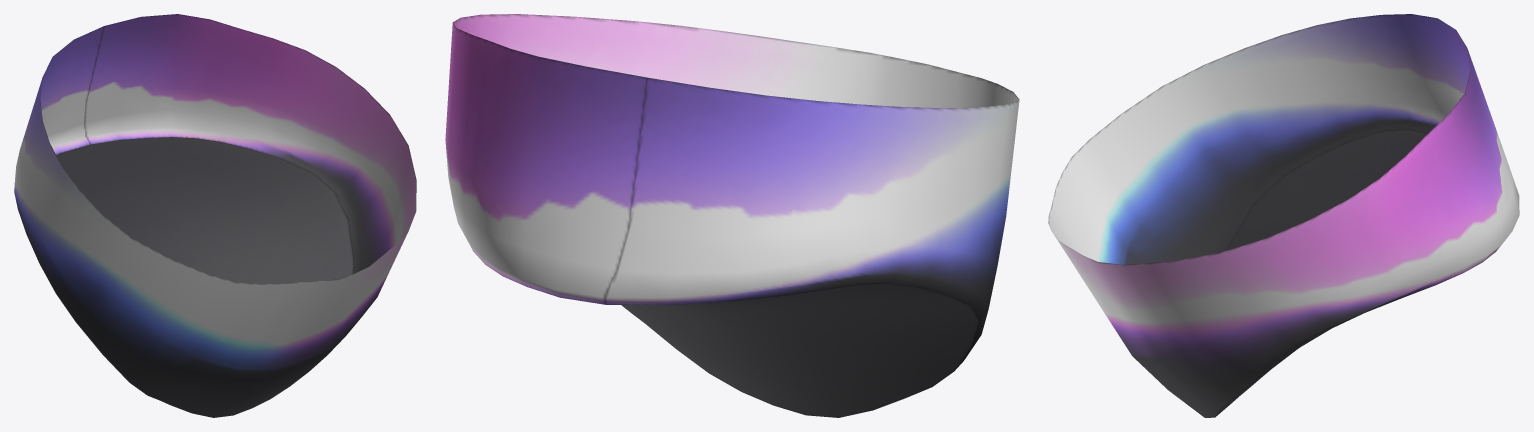
File: oculus_quest_plus_controller_right_trigger.obj
3 views of the same model, side by side, from view 1: azimuth 30°, elevation 25°; view 2: azimuth 150°, elevation 25°; view 3: azimuth 270°, elevation 25° (orthographic). The views are drawn at different scales.
Parts seen in each view (by area): view 1: oculus_quest_plus_controller_right_trigger; view 2: oculus_quest_plus_controller_right_trigger; view 3: oculus_quest_plus_controller_right_trigger.
Boxes of the visible parts, box(x1,y1,x2,y2) form: oculus_quest_plus_controller_right_trigger: box(14, 14, 416, 417); oculus_quest_plus_controller_right_trigger: box(445, 14, 1019, 417); oculus_quest_plus_controller_right_trigger: box(1048, 14, 1519, 417).
Size of the model in its own units: 0.0315 by 0.0277 by 0.0342.
1 material, 1 textured.
